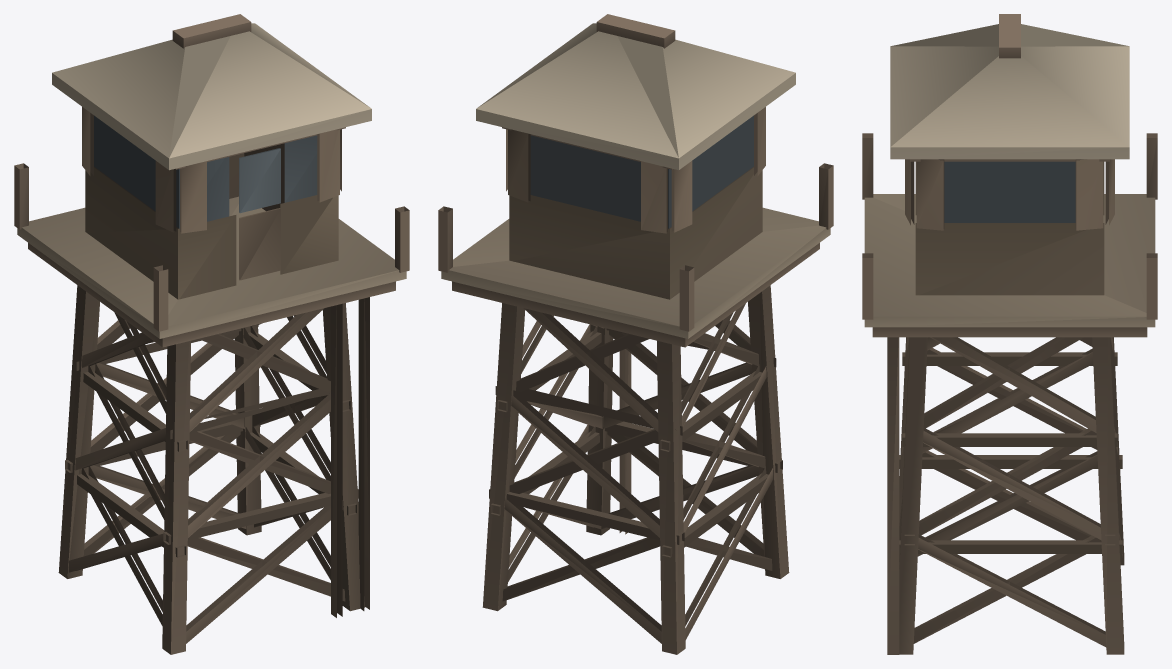
The model's file is lookout.lod.glb.
3 views of the same model, side by side, from view 1: azimuth 30°, elevation 25°; view 2: azimuth 150°, elevation 25°; view 3: azimuth 270°, elevation 25° (orthographic). The views are drawn at different scales.
Parts seen in each view (by area): view 1: lookout; view 2: lookout; view 3: lookout.
Part boxes in pixels (x1,y1,x2,y2): lookout: [14, 14, 409, 654]; lookout: [438, 14, 833, 654]; lookout: [862, 14, 1157, 654].
Bounding box in the file's own units: 6.4 × 13.76 × 6.4.
